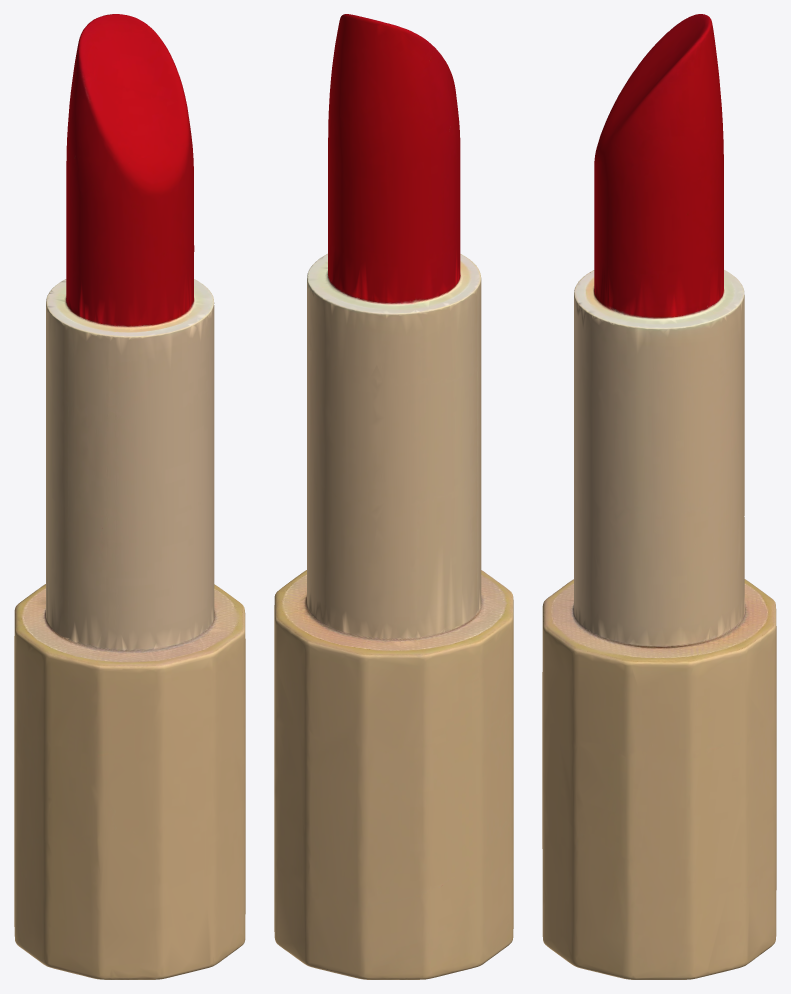
Rendered from Rossetto.glb.
3 renders of one model, left to right at view 1: azimuth 30°, elevation 25°; view 2: azimuth 150°, elevation 25°; view 3: azimuth 270°, elevation 25°, orthographic. The views are drawn at different scales.
Bounding box in the file's own units: 0.4421 × 1.9 × 0.4421.
1 material, 1 textured.
